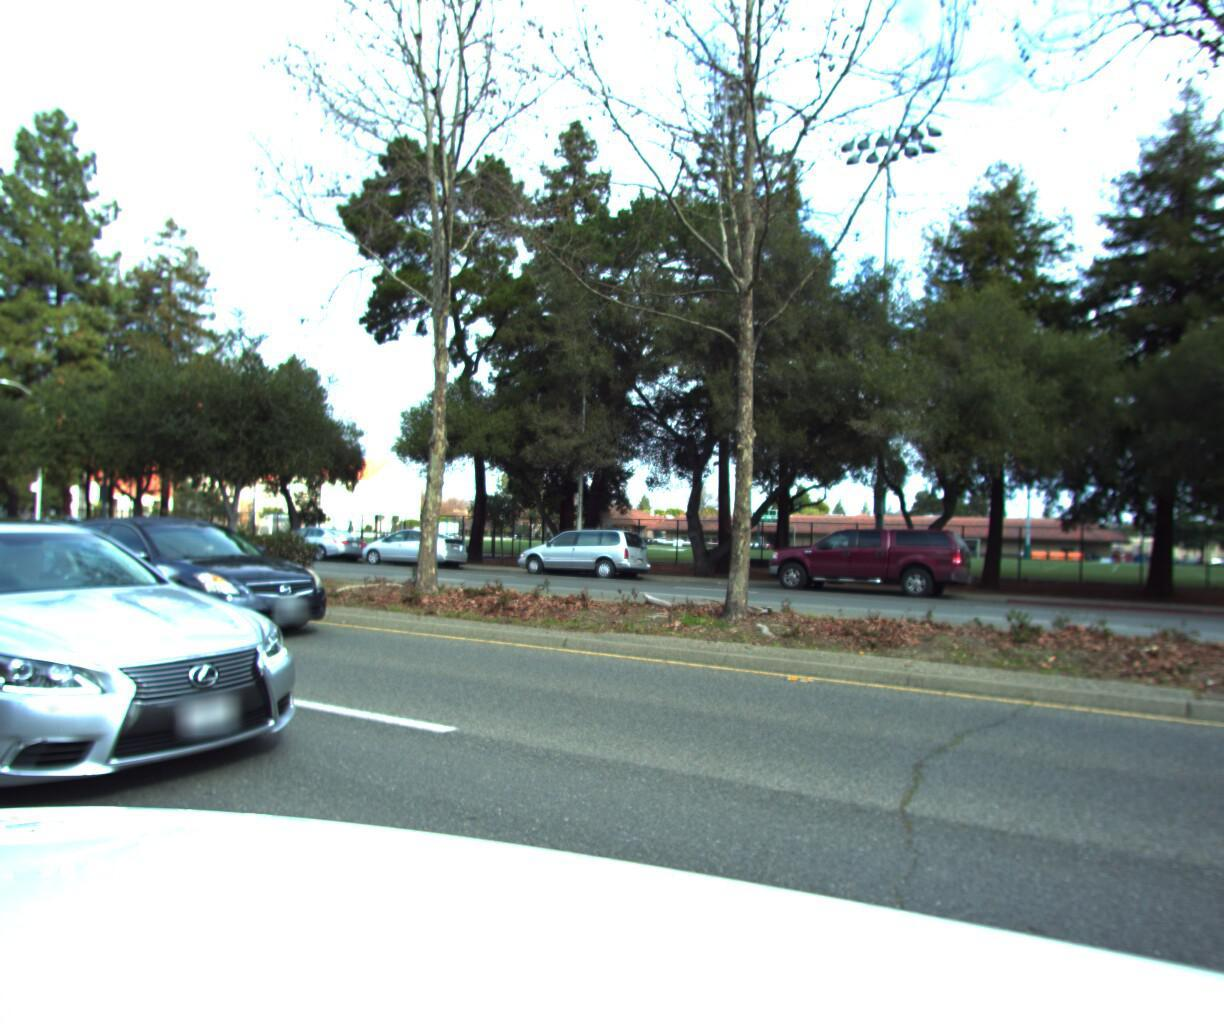car: (0, 497, 364, 868), (4, 504, 357, 648), (755, 514, 974, 599), (504, 517, 659, 578), (351, 520, 475, 567), (256, 518, 371, 563)
